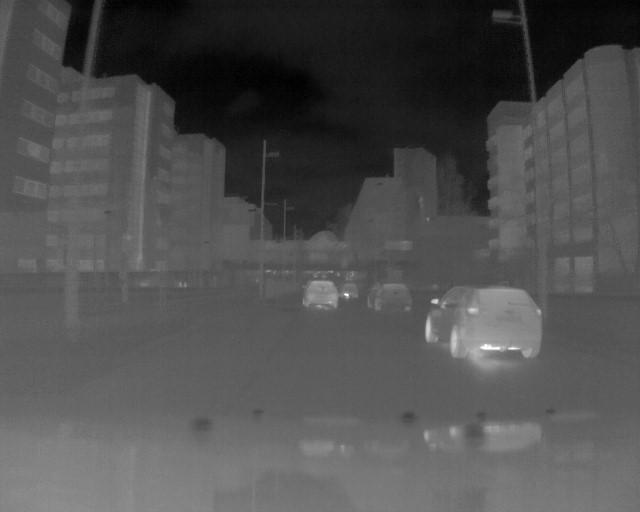car: (422, 282, 547, 364), (364, 280, 416, 314), (301, 277, 341, 309)
